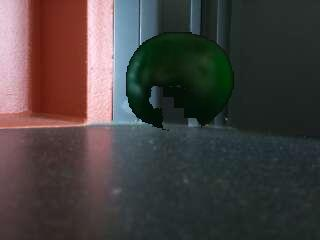Lime: (124, 31, 236, 128)
